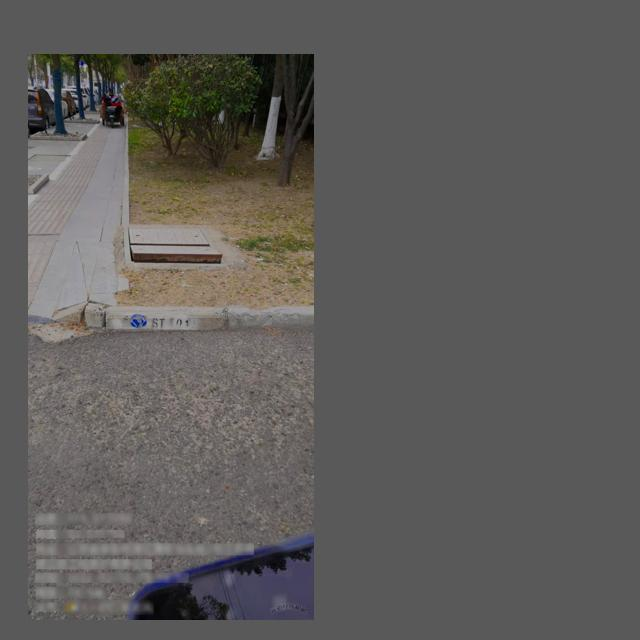uncovered: (122, 224, 226, 267)
